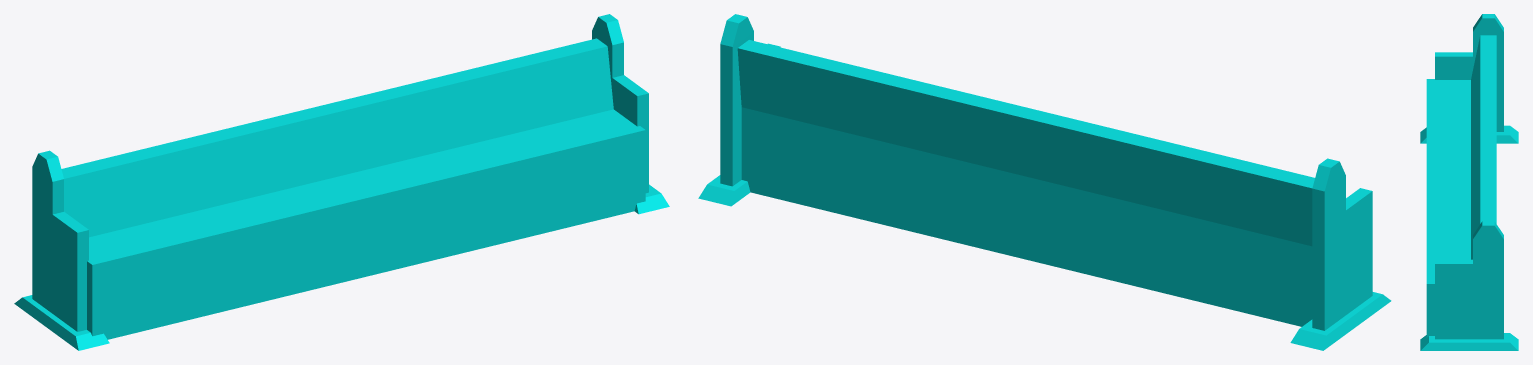
The model's file is SM_Prop_Pew_Large_01_Collison.fbx.
3 views of the same model, side by side, from view 1: azimuth 30°, elevation 25°; view 2: azimuth 150°, elevation 25°; view 3: azimuth 270°, elevation 25° (orthographic). The views are drawn at different scales.
Visible parts, largest first — view 1: SM_Prop_Pew_Large_01_Collison; view 2: SM_Prop_Pew_Large_01_Collison; view 3: SM_Prop_Pew_Large_01_Collison.
Part boxes in pixels (x1,y1,x2,y2): SM_Prop_Pew_Large_01_Collison: [14, 14, 669, 350]; SM_Prop_Pew_Large_01_Collison: [698, 14, 1391, 350]; SM_Prop_Pew_Large_01_Collison: [1420, 14, 1518, 350].
Size of the model in its own units: 403 by 104 by 76.43.
